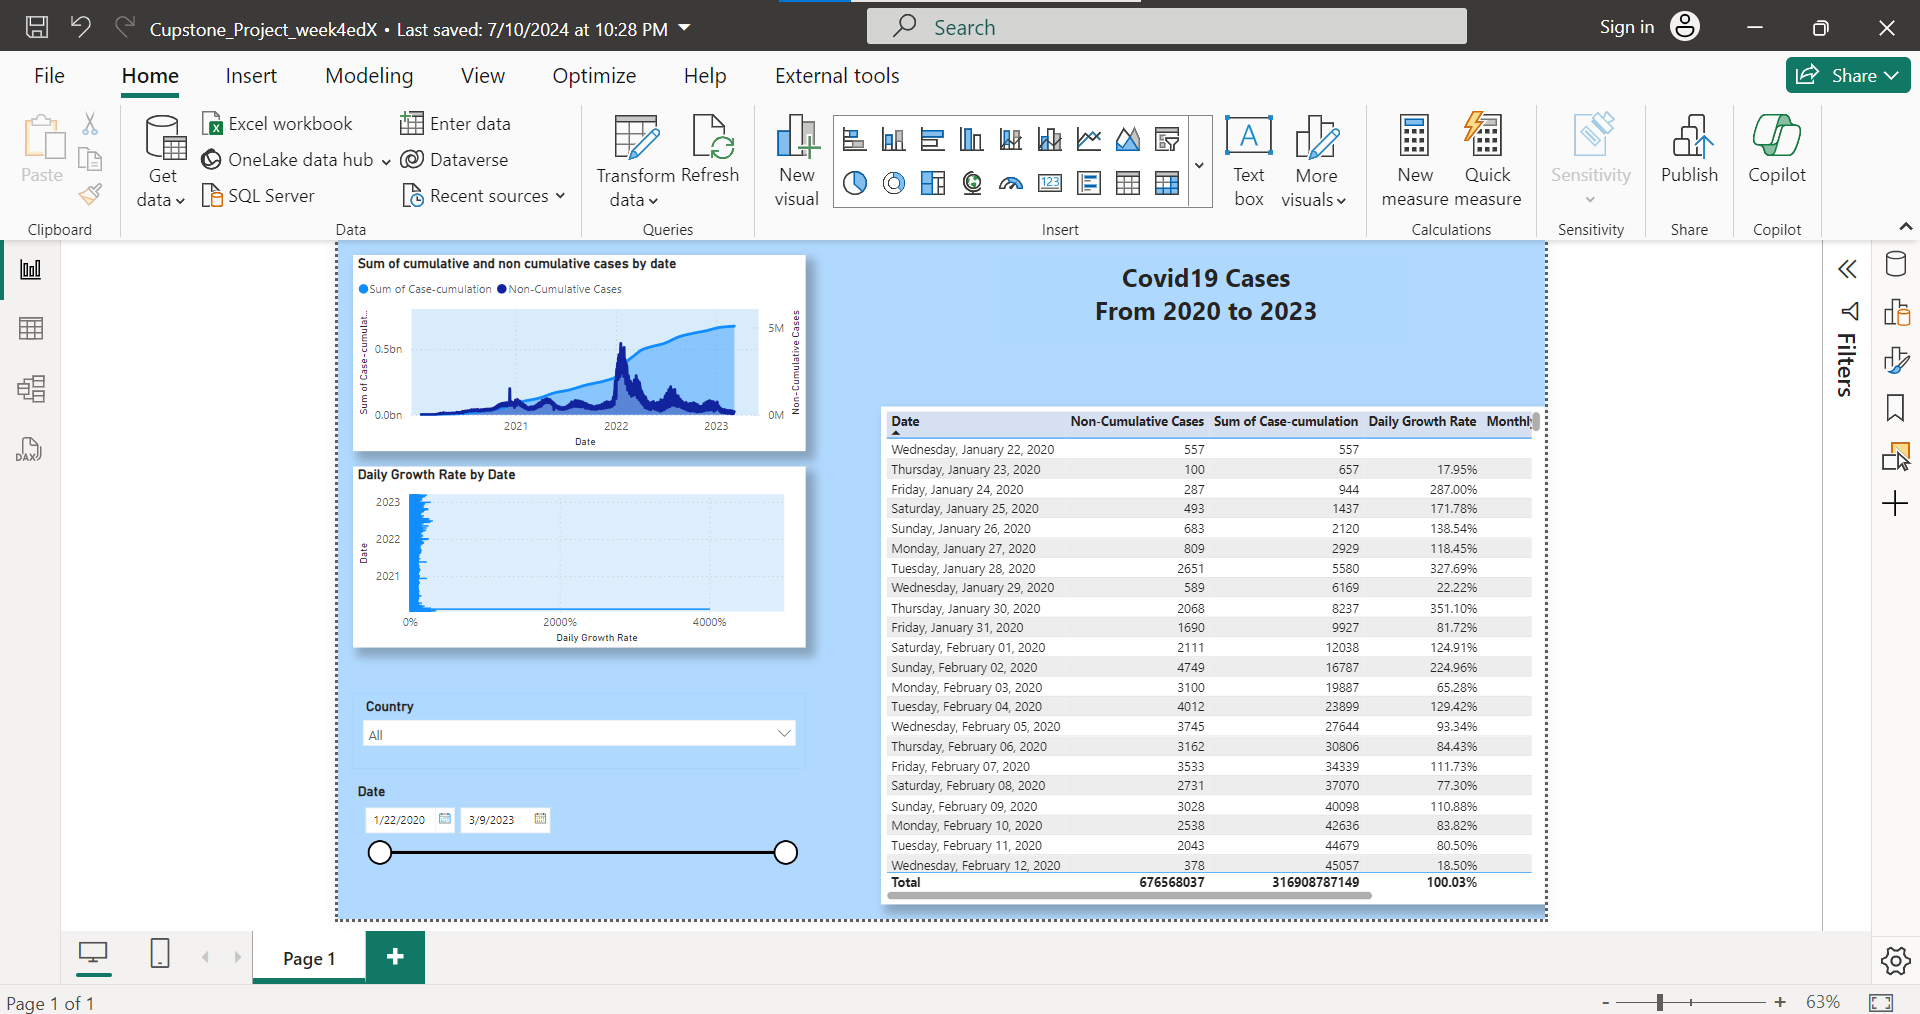

The page's visual inventory and layout, read from the dashboard file:
{"tool":"powerbi","page":{"name":"Page 1","canvas":[1280,720],"ordinal":0},"visuals":[{"type":"tableEx","fields":{"Values":["DimDate.Date","_Measure.Non-Cumulative Cases","Sum(FactCovid19Cases.Case-cumulation)","_Measure.Daily Growth Rate","_Measure.Monthly Growth Rate","_Measure.Yearly Growth Rate"]},"box":[576,176,704,528],"z":0},{"type":"lineChart","title":"Sum of cumulative and non cumulative cases by date","fields":{"Category":["DimDate.Date"],"Y":["Sum(FactCovid19Cases.Case-cumulation)"],"Y2":["_Measure.Non-Cumulative Cases"]},"box":[16,16,480,208],"z":1000},{"type":"barChart","fields":{"Y":["_Measure.Daily Growth Rate"],"Category":["DimDate.Date"]},"box":[16,240,480,192],"z":2000},{"type":"slicer","fields":{"Values":["DimCountry.Country"]},"box":[16,480,480,80],"z":3000},{"type":"slicer","title":"Date","fields":{"Values":["DimDate.Date"]},"box":[16,576,480,96],"z":4000},{"type":"textbox","box":[704,16,432,96],"z":5000}]}

Visuals, with their boxes on the page's 1280x720 design canvas (x1, y1, x2, y2). These are canvas units, not pixel positions in the 1920x1014 screenshot, which may show the page scaled, cropped or inside an application window:
tableEx - DimDate.Date x _Measure.Non-Cumulative Cases: bbox=[576, 176, 1280, 704]
"Sum of cumulative and non cumulative cases by date" lineChart: bbox=[16, 16, 496, 224]
barChart - _Measure.Daily Growth Rate x DimDate.Date: bbox=[16, 240, 496, 432]
slicer - DimCountry.Country: bbox=[16, 480, 496, 560]
"Date" slicer: bbox=[16, 576, 496, 672]
textbox: bbox=[704, 16, 1136, 112]
